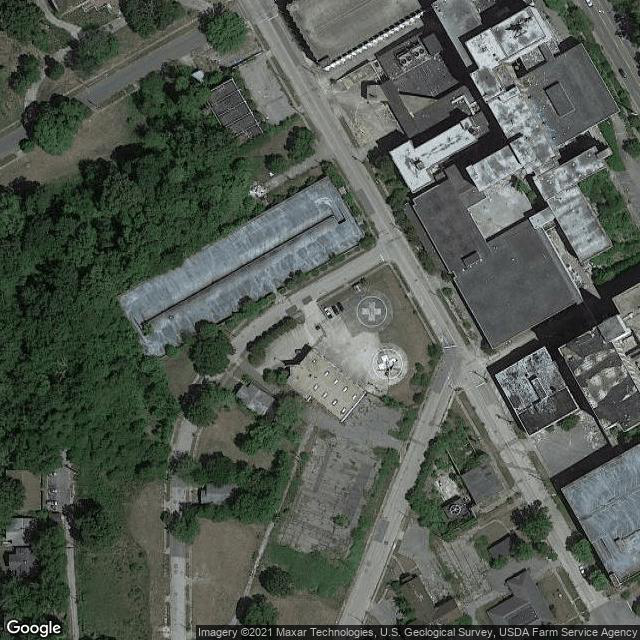Helipad: (371, 346, 406, 385), (355, 292, 389, 328)
